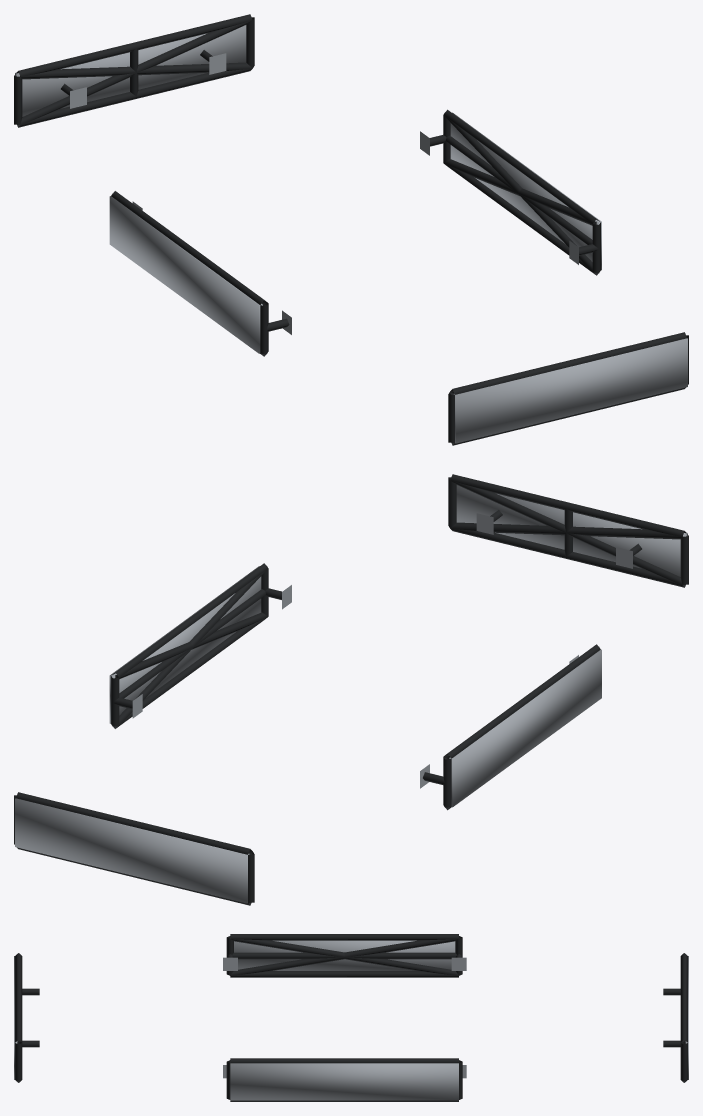
Rendered from whitlock_ferreiro_protecao.glb.
3 views of the same model, one above another, from view 1: azimuth 30°, elevation 25°; view 2: azimuth 150°, elevation 25°; view 3: azimuth 270°, elevation 25° (orthographic). The views are drawn at different scales.
Visible parts, largest first — view 1: Protection_front_Level3_Details, Protection_left_Level3_Details, Protection_rear_Level1_Details, Protection_rear_Level3_Details, Protection_right_Level1_Details, Protection_rear_Level2_Details, Protection_right_Level2_Details, Protection_right_Level3_Details, Protection_front_Level1_Details, Protection_left_Level1_Details; view 2: Protection_rear_Level3_Details, Protection_left_Level3_Details, Protection_front_Level1_Details, Protection_front_Level3_Details, Protection_right_Level1_Details, Protection_front_Level2_Details, Protection_right_Level2_Details, Protection_right_Level3_Details, Protection_rear_Level1_Details, Protection_left_Level1_Details; view 3: Protection_right_Level3_Details, Protection_left_Level2_Details, Protection_left_Level1_Details, Protection_left_Level3_Details, Protection_right_Level1_Details, Protection_rear_Level1_Details, Protection_front_Level1_Details.
Boxes of the visible parts, x1,y1,x2,y2 form: Protection_front_Level3_Details: (453, 338, 687, 443); Protection_left_Level3_Details: (109, 196, 262, 353); Protection_rear_Level1_Details: (14, 14, 254, 127); Protection_rear_Level3_Details: (15, 25, 246, 116); Protection_right_Level1_Details: (420, 109, 600, 275); Protection_rear_Level2_Details: (16, 20, 252, 126); Protection_right_Level2_Details: (443, 116, 599, 275); Protection_right_Level3_Details: (450, 112, 601, 270); Protection_front_Level1_Details: (448, 332, 688, 445); Protection_left_Level1_Details: (111, 191, 291, 356); Protection_rear_Level3_Details: (15, 798, 249, 903); Protection_left_Level3_Details: (449, 649, 601, 807); Protection_front_Level1_Details: (448, 474, 688, 587); Protection_front_Level3_Details: (456, 485, 687, 576); Protection_right_Level1_Details: (111, 563, 291, 728); Protection_front_Level2_Details: (450, 480, 686, 586); Protection_right_Level2_Details: (112, 569, 268, 728); Protection_right_Level3_Details: (109, 566, 261, 723); Protection_rear_Level1_Details: (14, 792, 254, 905); Protection_left_Level1_Details: (420, 644, 600, 810); Protection_right_Level3_Details: (230, 1063, 458, 1100); Protection_left_Level2_Details: (230, 937, 459, 975); Protection_left_Level1_Details: (223, 934, 466, 977); Protection_left_Level3_Details: (234, 940, 455, 970); Protection_right_Level1_Details: (223, 1058, 466, 1101); Protection_rear_Level1_Details: (663, 953, 687, 1082); Protection_front_Level1_Details: (15, 953, 39, 1082).
Bounding box in the file's own units: 2.23 × 0.354 × 4.96.
Materials: 1 (1 with a texture image).
